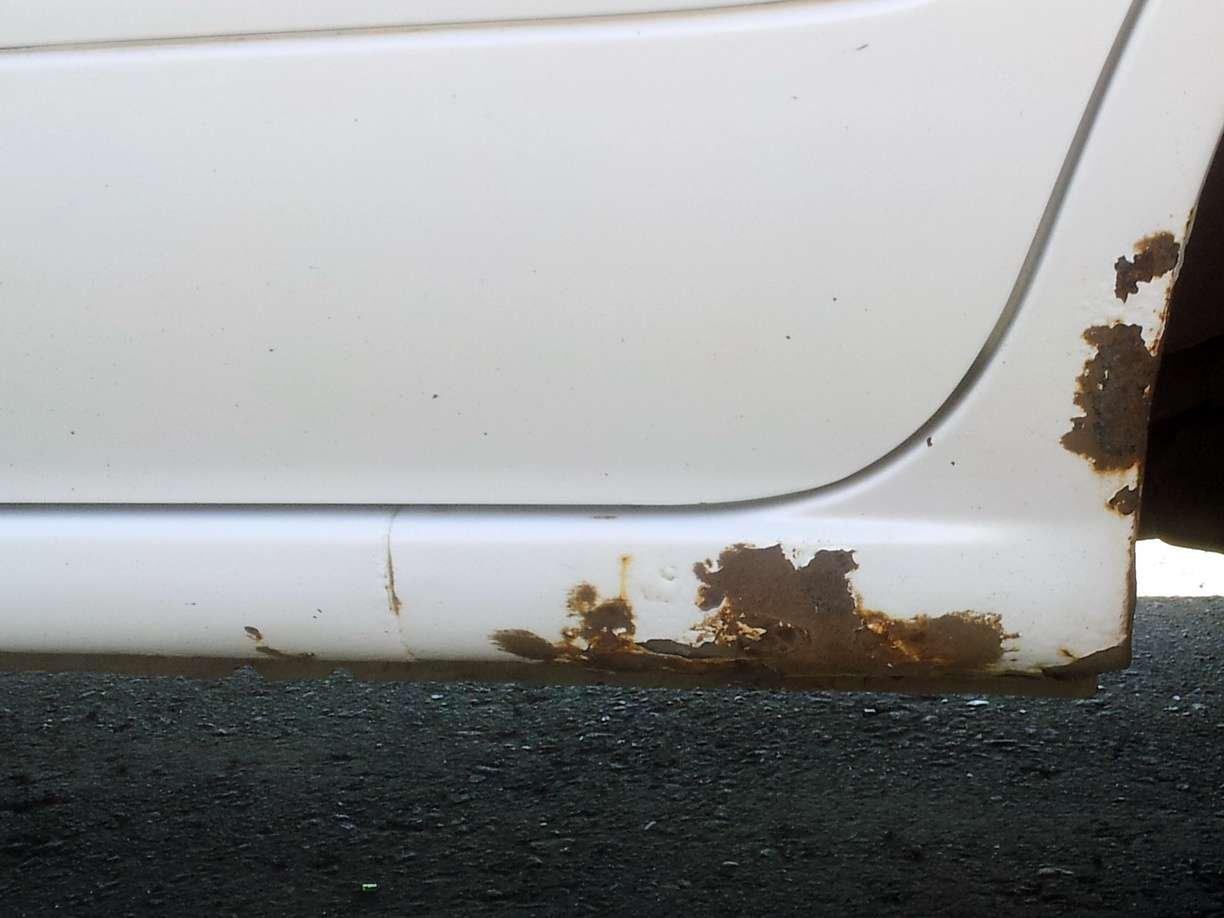corrosion: (491, 544, 1007, 675), (1060, 324, 1158, 473), (1041, 575, 1137, 681), (1117, 233, 1182, 299), (245, 627, 317, 663), (384, 510, 403, 638), (1108, 486, 1141, 517)
